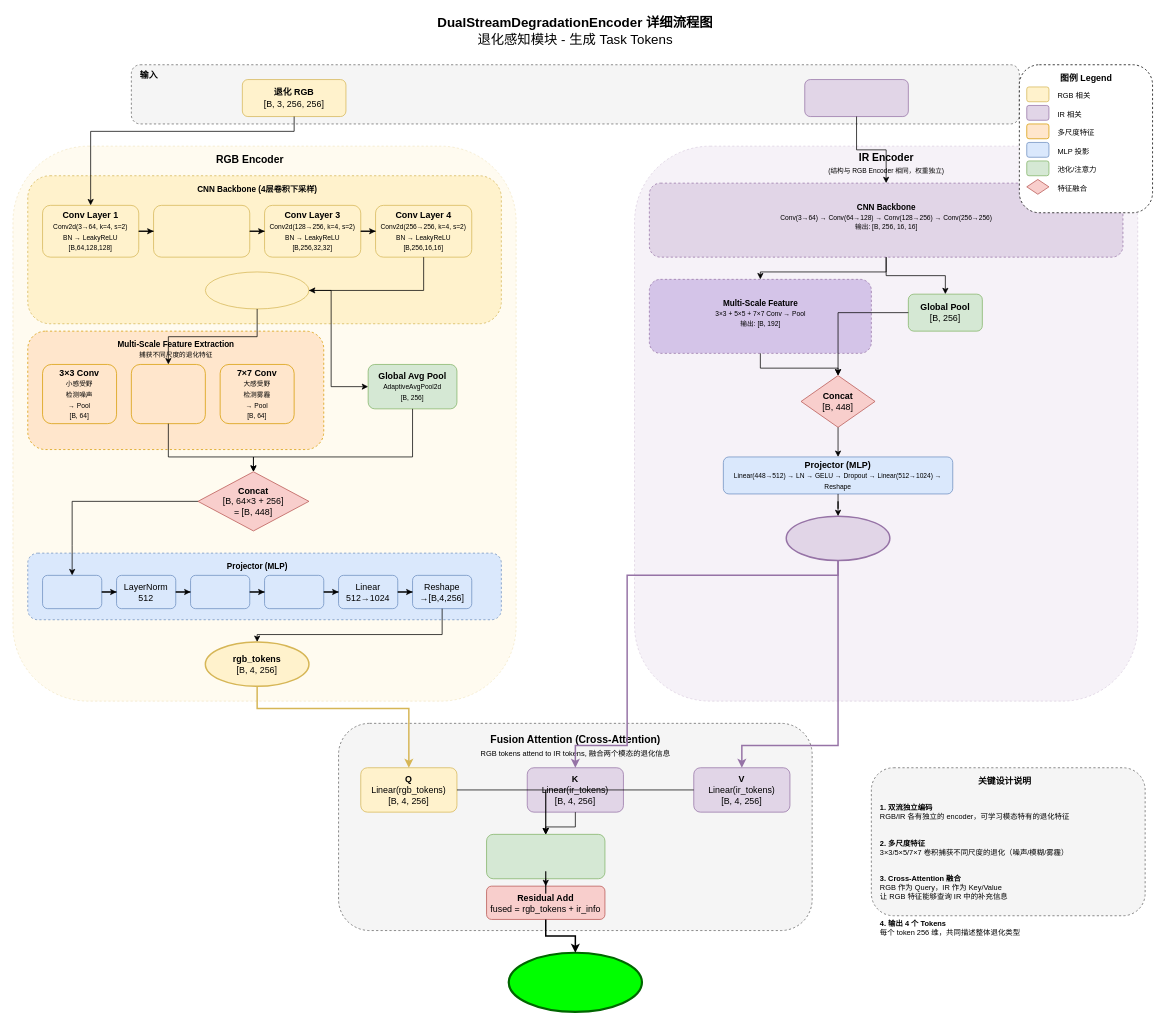
The diagram is 1166 pixels wide and 1026 high, and some of its shapes have lost their labels. The box of each missing label's shape, as (x1, y1, x2, y2) in pixels:
5×5 Conv 中感受野 检测模糊 → Pool [B, 64]: (131, 364, 205, 424)
Attention Attn = Softmax(Q @ K T / √d) ir_info = Attn @ V: (486, 834, 605, 879)
backbone_feat [B, 256, 16, 16]: (205, 271, 309, 309)
Conv Layer 2 Conv2d(64→128, k=4, s=2) BN → LeakyReLU [B,128,64,64]: (153, 205, 250, 257)
Dropout 0.1: (264, 575, 324, 609)
GELU: (190, 575, 250, 609)
ir_tokens [B, 4, 256]: (785, 515, 890, 561)
Linear 448→512: (42, 575, 102, 609)
task_tokens [B, 4, 256] 4个 token 描述整体退化类型: (507, 951, 643, 1013)
退化 IR [B, 3, 256, 256]: (804, 79, 908, 117)
